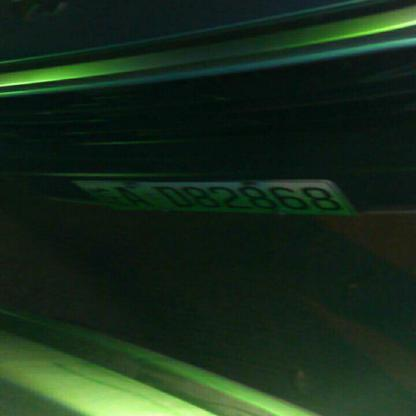lp: (71, 181, 358, 214)
